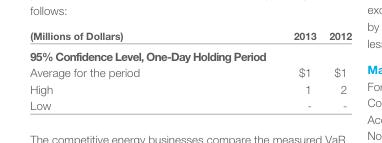table: (29, 29, 351, 111)
table column: (29, 29, 215, 111), (215, 29, 322, 111), (322, 29, 351, 111)
table column header: (29, 29, 351, 44)
table projected row header: (29, 44, 351, 63)
table row: (29, 44, 351, 63), (29, 63, 351, 80), (29, 80, 351, 96), (29, 29, 351, 44), (29, 96, 351, 111)
